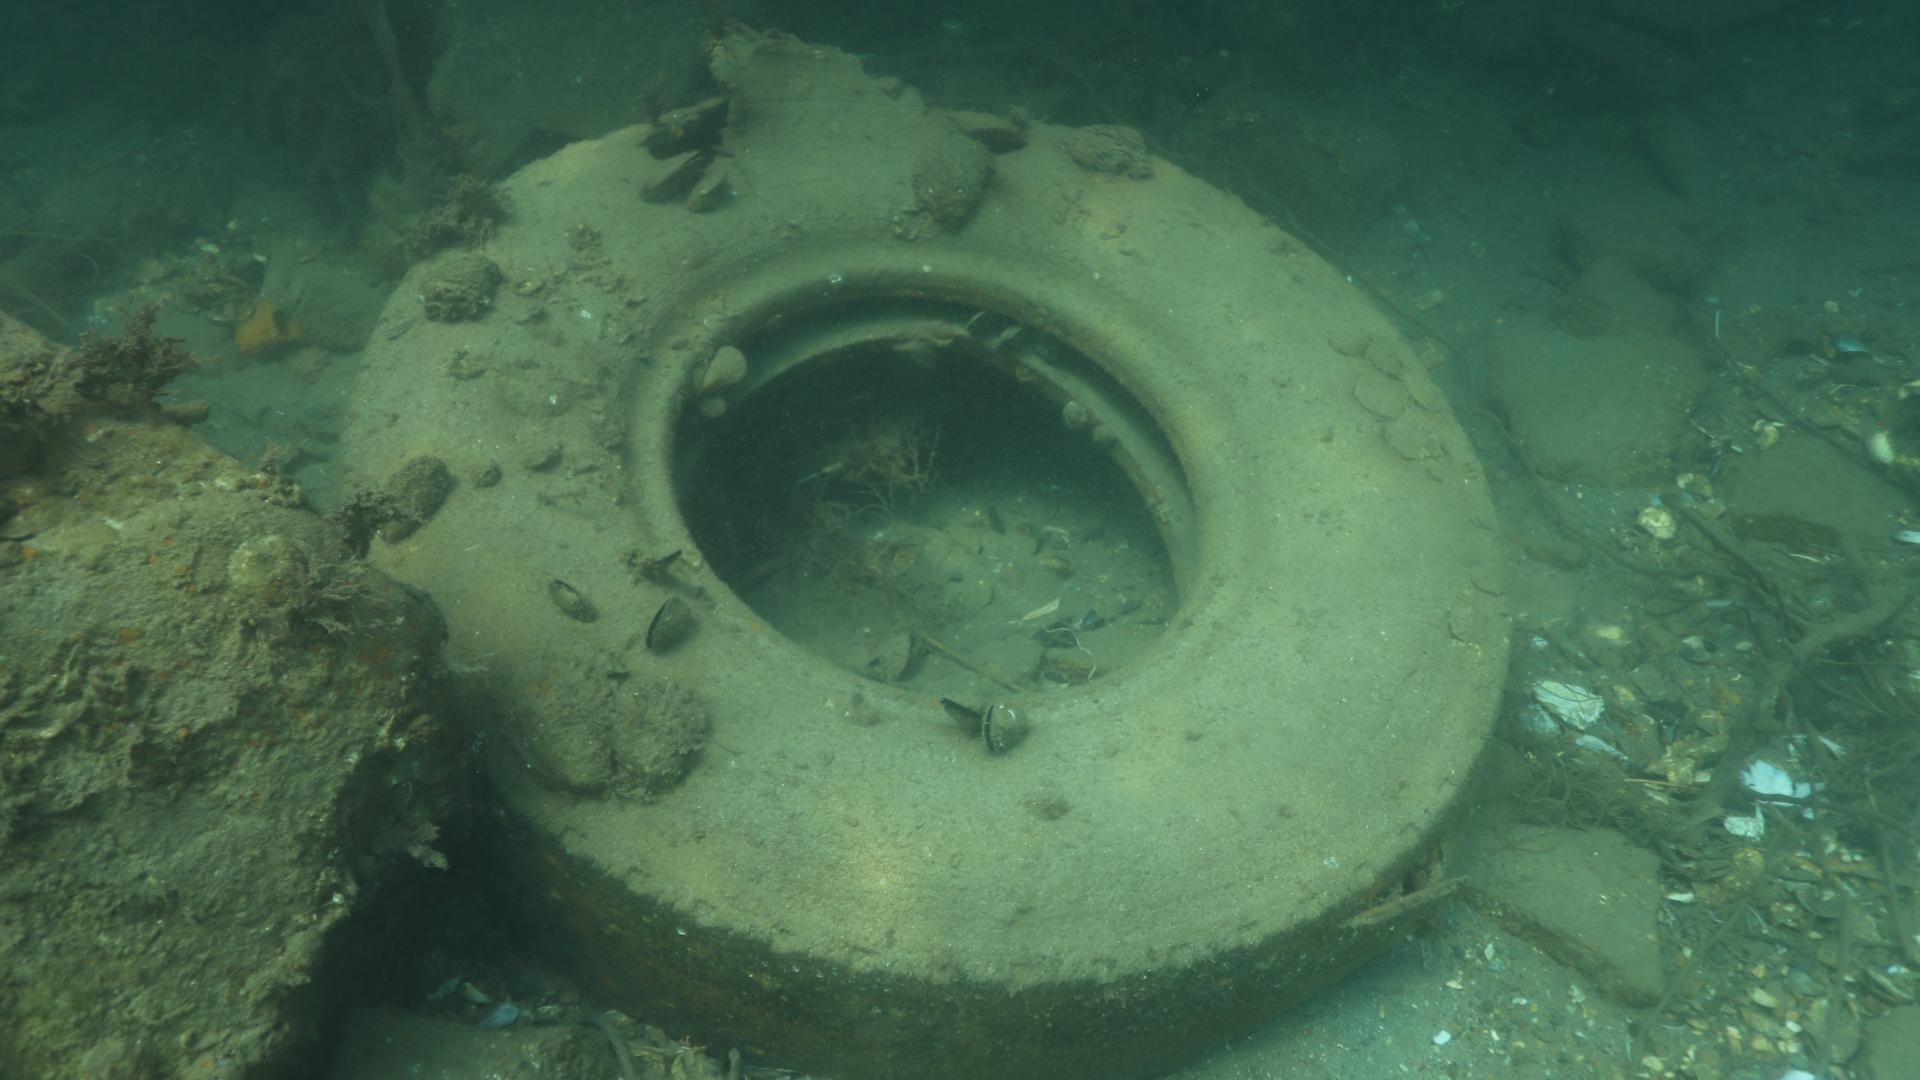tire: (340, 94, 1516, 1080)
